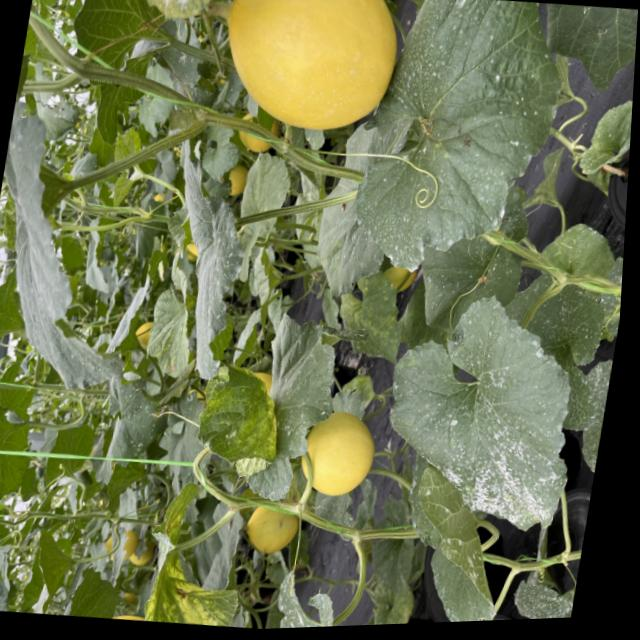SLCV: (189, 361, 289, 484)
downy mildew: (132, 472, 262, 630)
powdery mildew: (342, 0, 576, 280), (363, 280, 597, 537), (142, 137, 265, 388), (572, 92, 633, 179), (508, 567, 578, 620)
